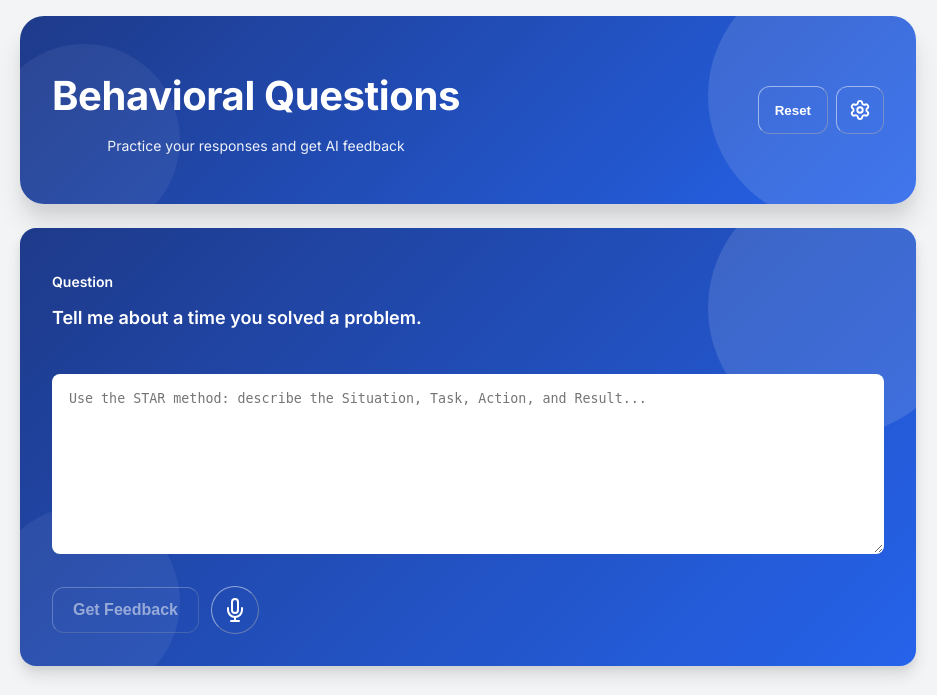
Test: InterviewQuestions › Response handling › only enables Next Question button when rating is 6 or higher
Replace the text in the text box with placeholder "Use the STAR method" with "My response". click: (468, 464)
box: top-left (52, 374), bottom-right (884, 554)
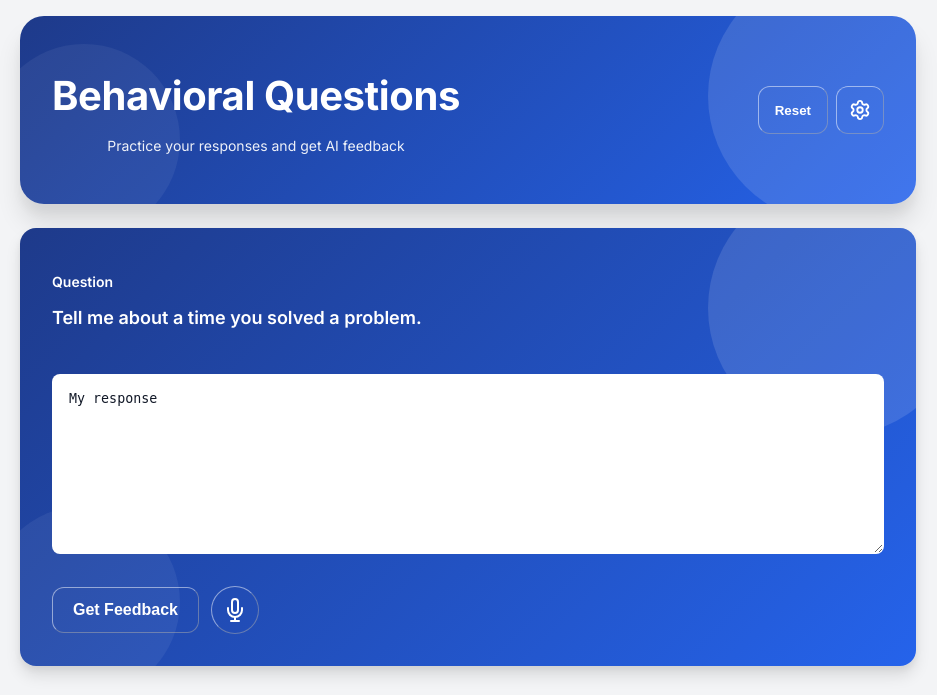
Click the button "Get Feedback". click: (125, 610)
box: top-left (52, 587), bottom-right (199, 633)
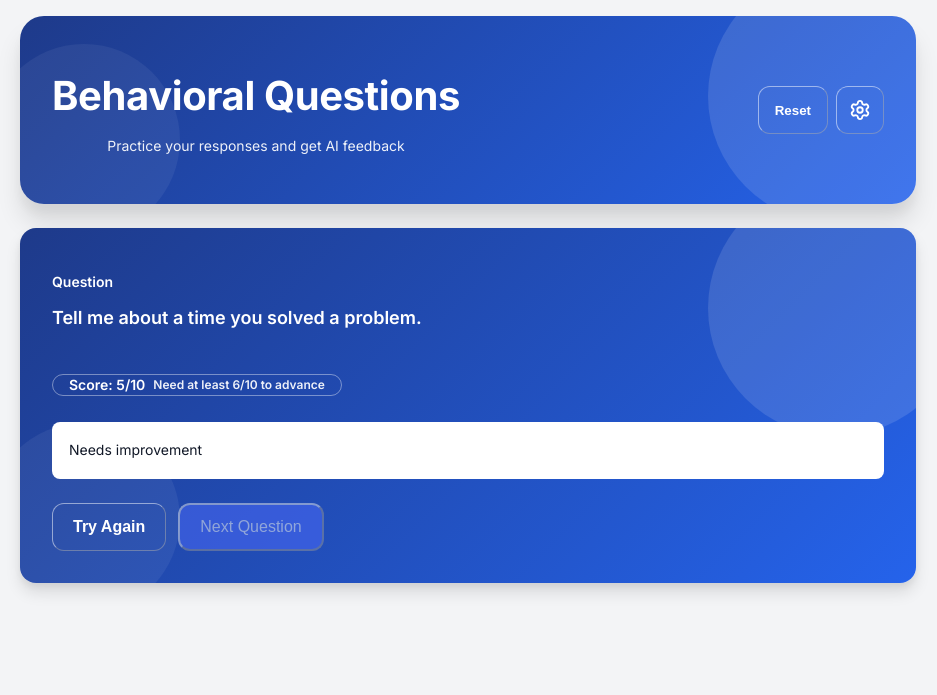
Result: the text "Score: 5/10" is shown at top-left (52, 374), bottom-right (342, 396)
Result: the button "Next Question" is disabled at top-left (178, 503), bottom-right (324, 551)
